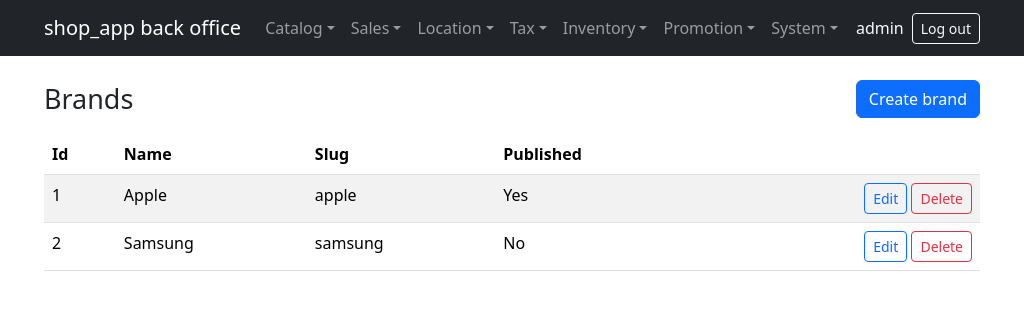
Test case: Brands list › asks for confirmation before deleting and reloads the list
The width and height of the screenshot is (1024, 314).
Click the button "Delete" in the row of "Yes". click: (942, 198)
box: [911,183,972,214]
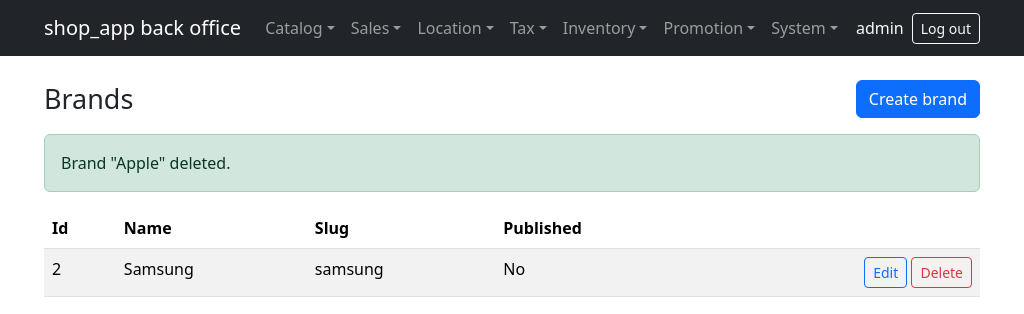
expect the text "Brand \"Apple\" deleted." is shown: met, box [44,134,980,192]
